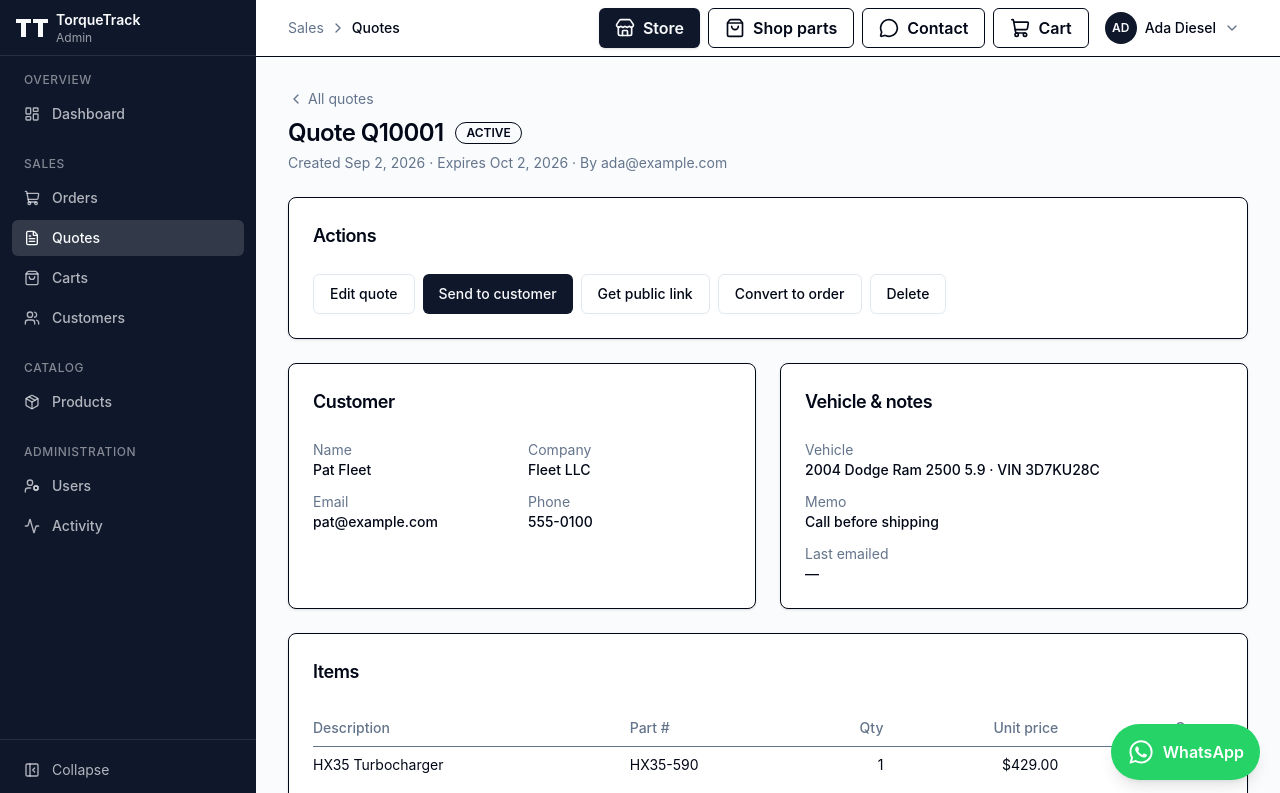
Test case: QuoteDetailPage › sends the quote and confirms it
Click the button "Send to customer": coordinates (498, 294) [422,274,573,314]
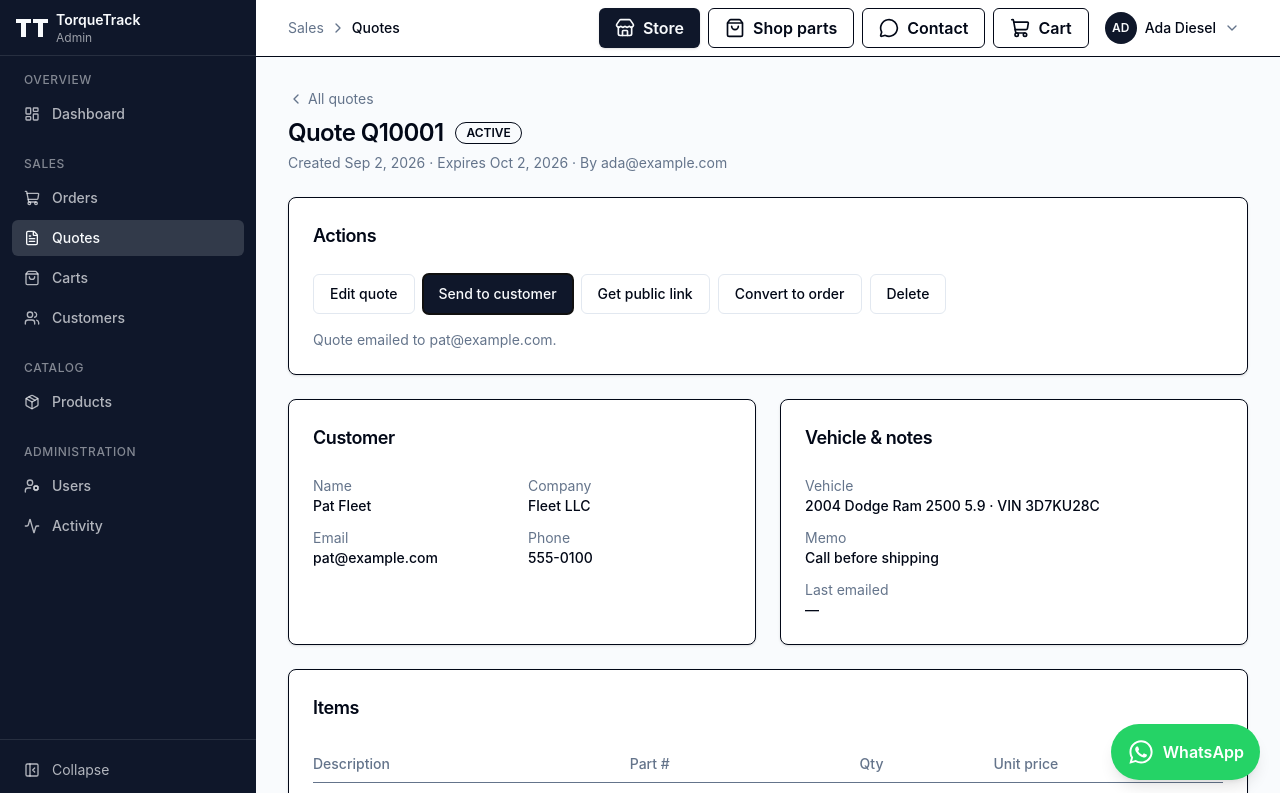
Check: the text "Quote emailed to pat@example.com." is shown, box [313,331,557,348]
